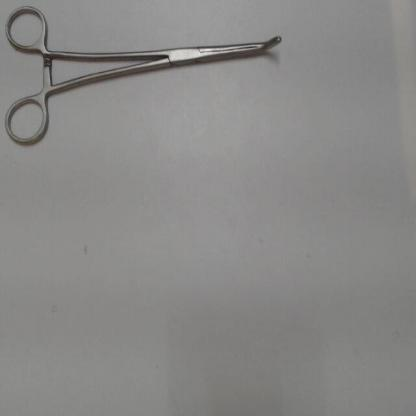Lahey Forceps: (2, 2, 294, 152)
